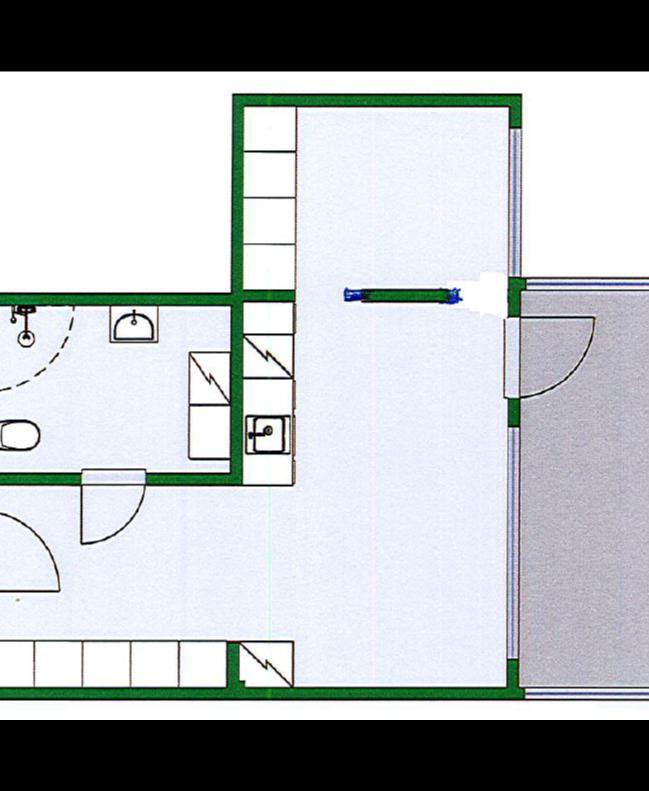door: (501, 312, 597, 408), (74, 464, 147, 546), (0, 507, 62, 599)
window: (500, 418, 524, 668), (504, 120, 526, 282), (517, 272, 649, 293), (520, 685, 649, 705)
